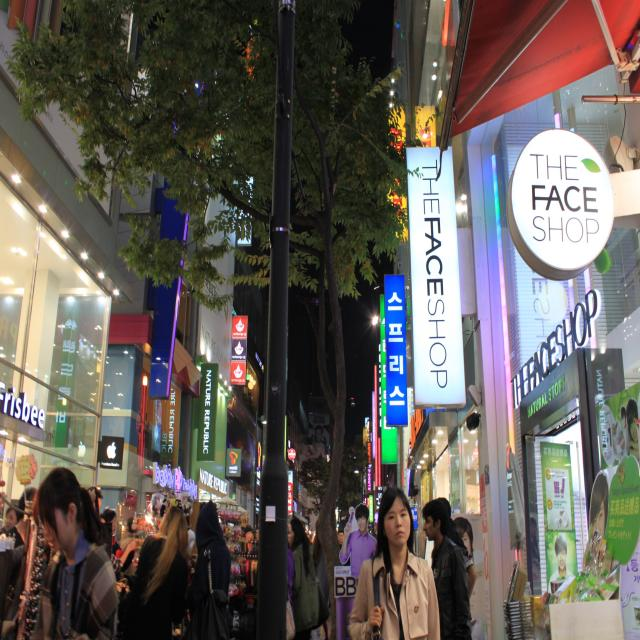body: (30, 466, 118, 640), (348, 485, 440, 640), (124, 503, 190, 640), (547, 469, 613, 604), (187, 497, 246, 640), (421, 498, 473, 640), (88, 483, 143, 594), (436, 496, 478, 601), (286, 516, 321, 640), (338, 503, 376, 578), (4, 485, 40, 551), (603, 400, 639, 462), (312, 518, 330, 640), (240, 519, 259, 572), (453, 514, 476, 556), (286, 548, 296, 640), (0, 499, 17, 545), (230, 380, 254, 409), (312, 420, 325, 456), (337, 529, 344, 551)
